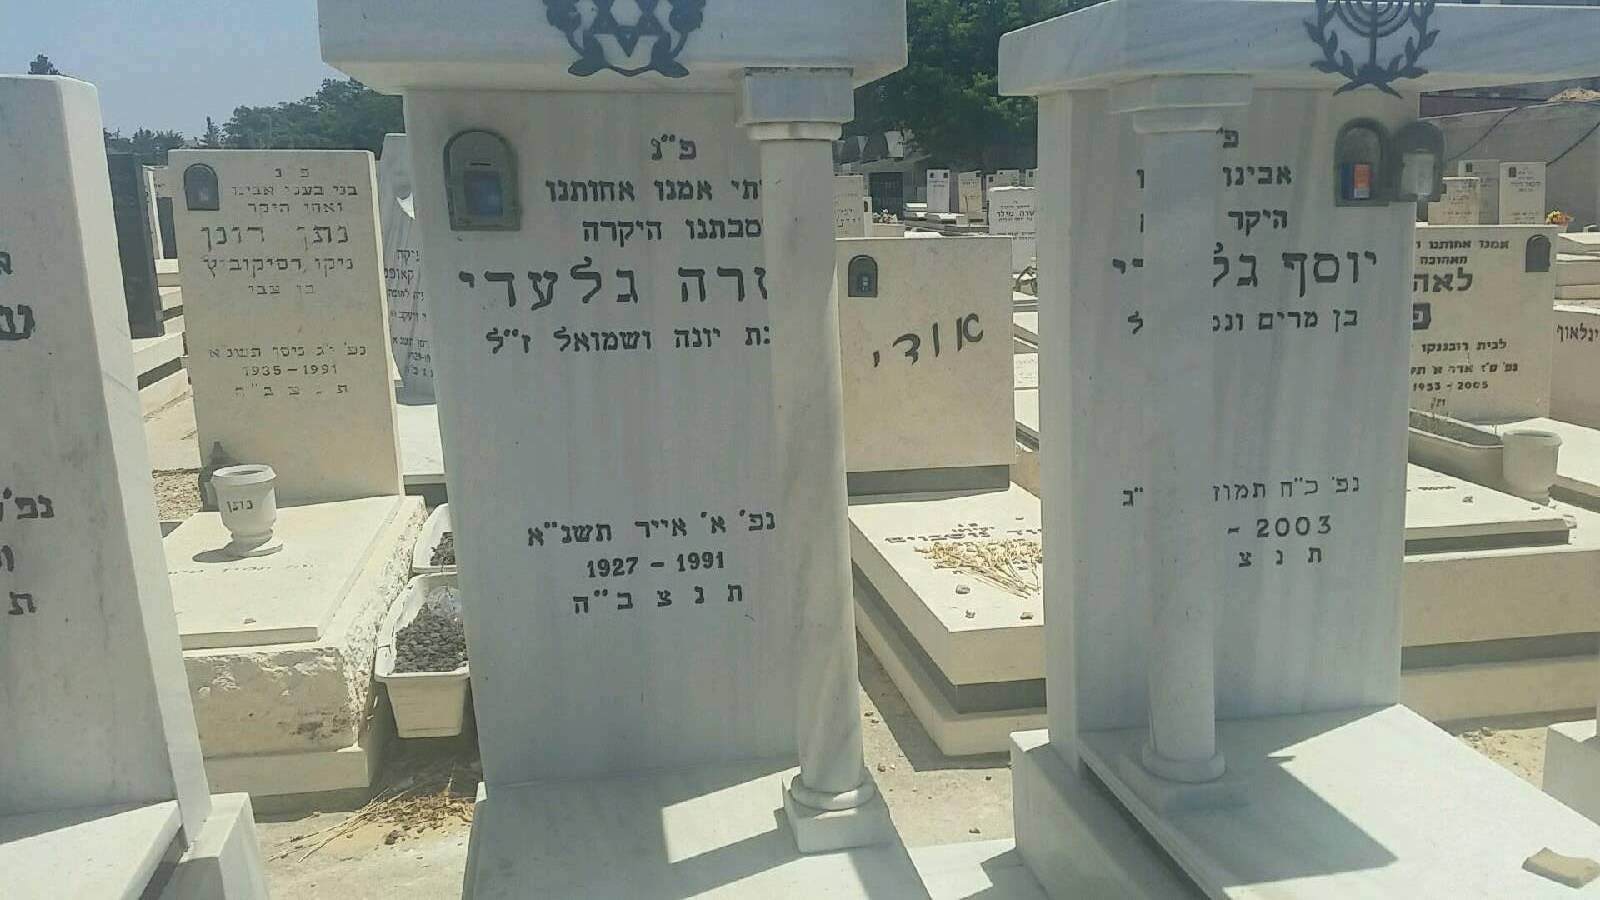vault: (319, 0, 926, 900)
